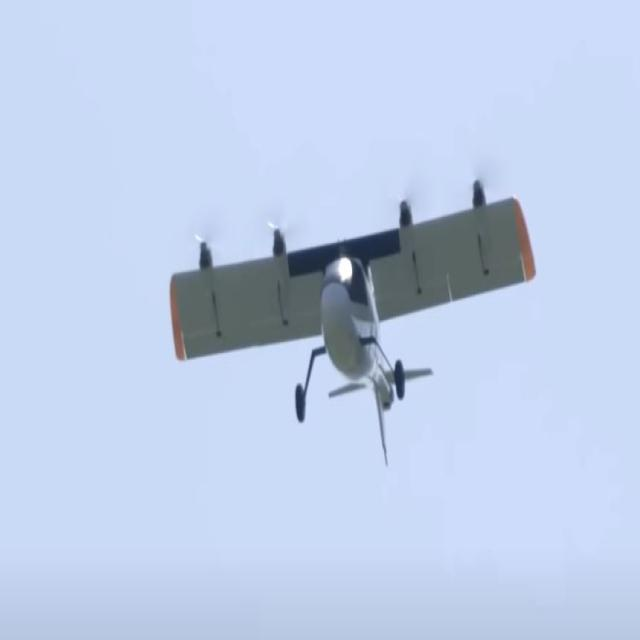iha: (167, 177, 536, 468)
